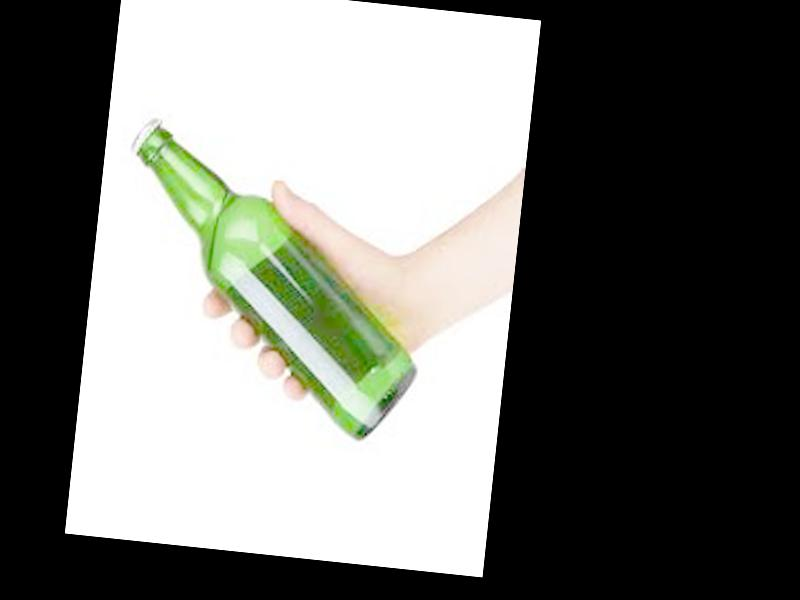Beer: (108, 116, 445, 443)
